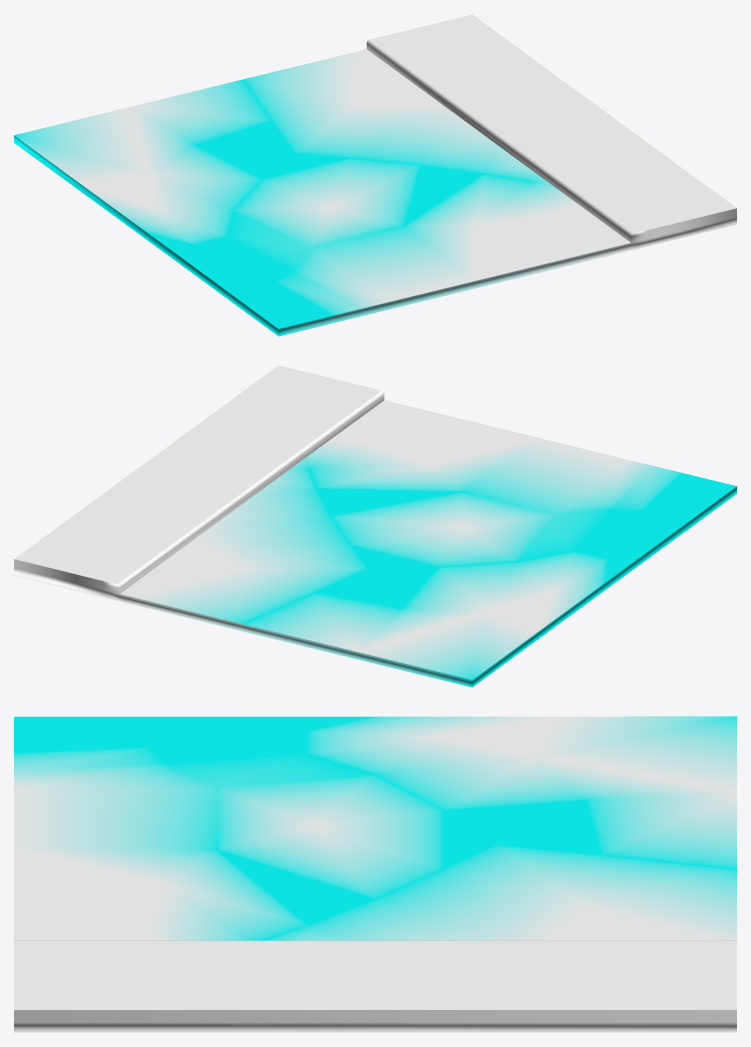
The picture shows the model from 3 angles, top to bottom: view 1: azimuth 30°, elevation 25°; view 2: azimuth 150°, elevation 25°; view 3: azimuth 270°, elevation 25°; orthographic projection. The views are drawn at different scales.
Parts seen in each view (by area): view 1: SM_Module_4x4_06_LOD0; view 2: SM_Module_4x4_06_LOD0; view 3: SM_Module_4x4_06_LOD0.
Part boxes in pixels (x1=…): SM_Module_4x4_06_LOD0: x1=14, y1=14, x2=736, y2=336; SM_Module_4x4_06_LOD0: x1=14, y1=365, x2=736, y2=687; SM_Module_4x4_06_LOD0: x1=14, y1=716, x2=736, y2=1032.
Bounding box in the file's own units: 400 × 400 × 13.86.
